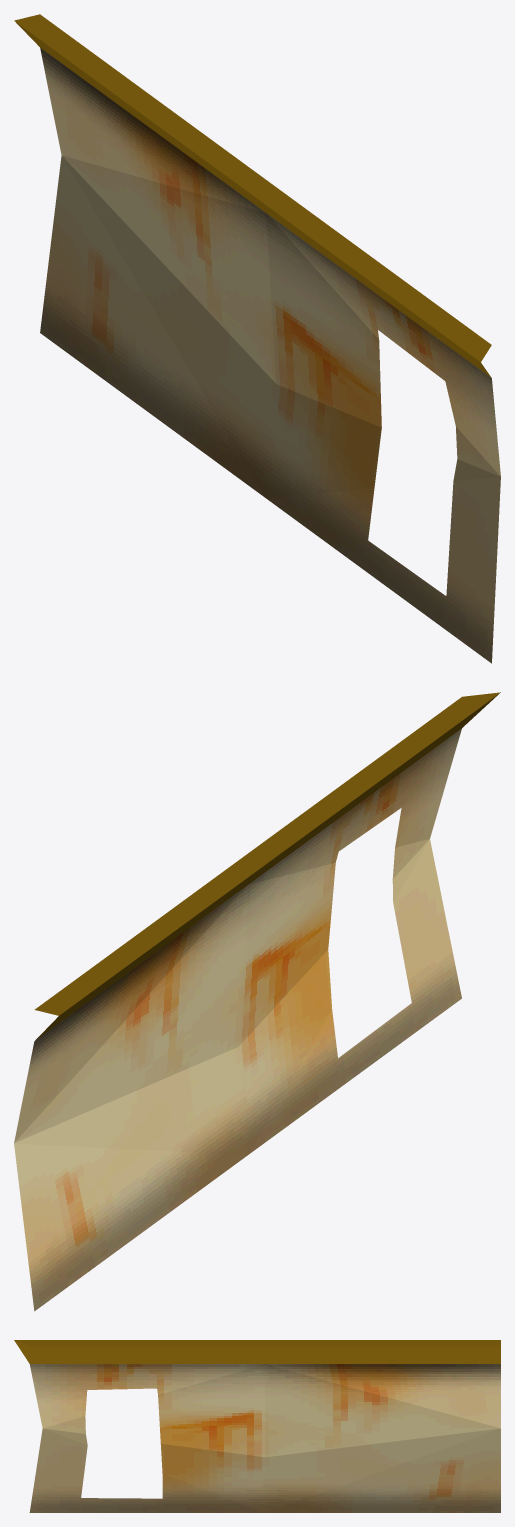
Rendered from W_A2r_oxxx_1245.glb.
3 renders of one model, top to bottom at view 1: azimuth 30°, elevation 25°; view 2: azimuth 150°, elevation 25°; view 3: azimuth 270°, elevation 25°, orthographic. The views are drawn at different scales.
Visible parts, largest first — view 1: polySurfaceShape1268, polySurfaceShape1270; view 2: polySurfaceShape1268, polySurfaceShape1270; view 3: polySurfaceShape1268, polySurfaceShape1270.
Part boxes in pixels (box(x1,y1,x2,y2)): polySurfaceShape1268: box(40, 47, 500, 663); polySurfaceShape1270: box(14, 14, 491, 377); polySurfaceShape1268: box(14, 728, 461, 1311); polySurfaceShape1270: box(34, 692, 500, 1040); polySurfaceShape1268: box(29, 1364, 500, 1512); polySurfaceShape1270: box(14, 1340, 500, 1363).
Bounding box in the file's own units: 0.0607 × 0.3891 × 1.03.
Materials: 2 (1 with a texture image).
